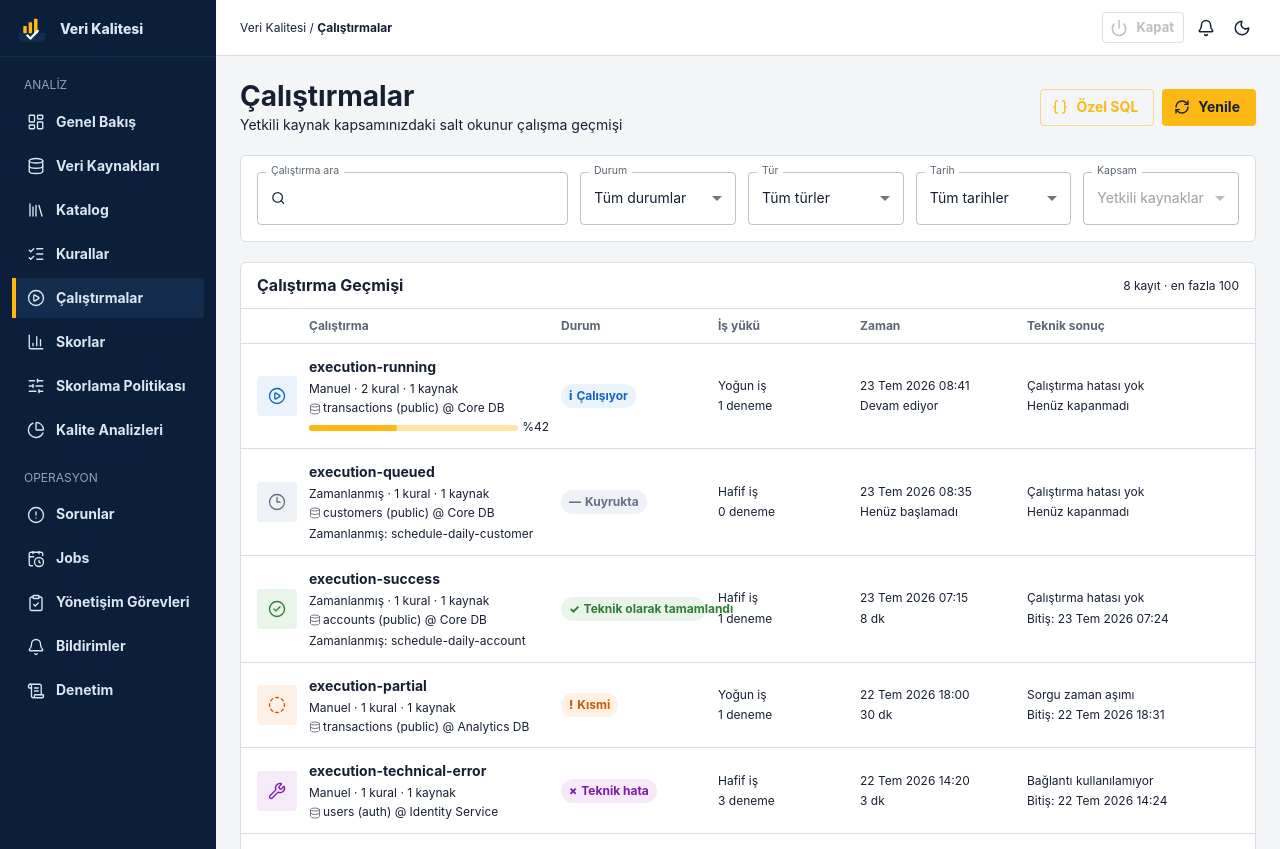
Test: Çalıştırmalar ekranı › Özel SQL dialog'nda yasak keyword içeren SQL hata verir
The width and height of the screenshot is (1280, 849).
Click the button "Özel SQL". click: (1097, 107)
box: [1040, 89, 1154, 126]
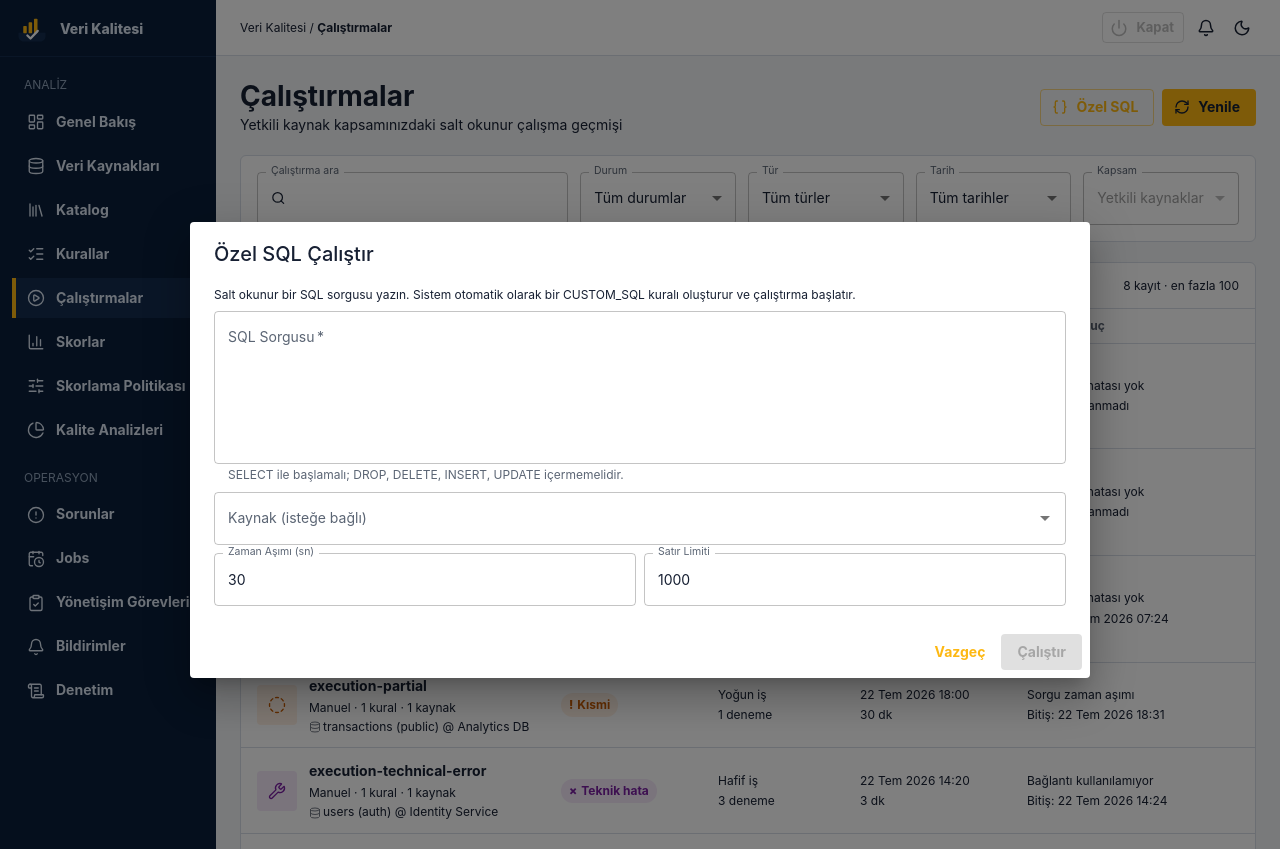
Type "SELECT * FROM t; DROP TABLE x" into the text box with placeholder "SELECT ... -- Salt okunur SQL sorgusunu giriniz". click: (640, 387)
box: [228, 327, 1052, 447]
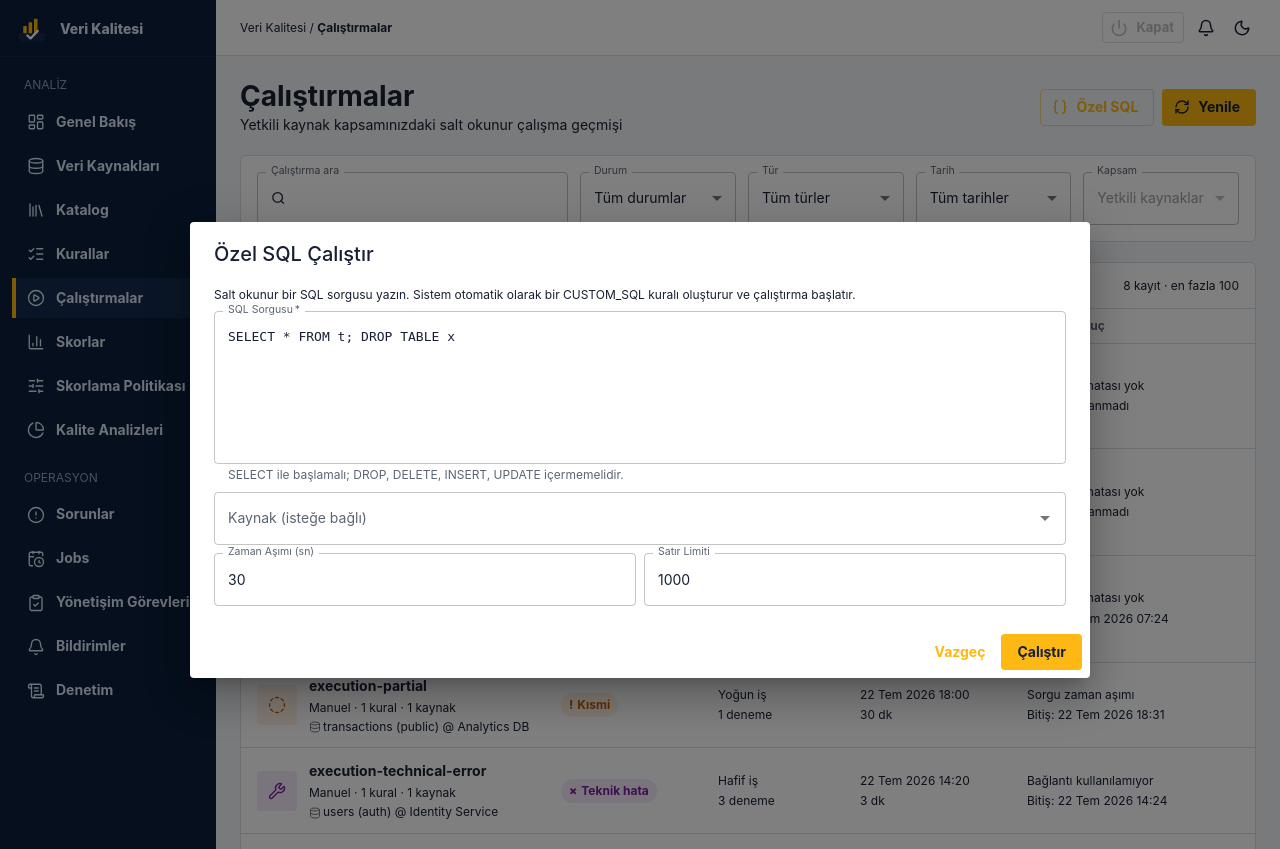
Click the button "Çalıştır". click: (1042, 652)
box: [1002, 634, 1082, 670]
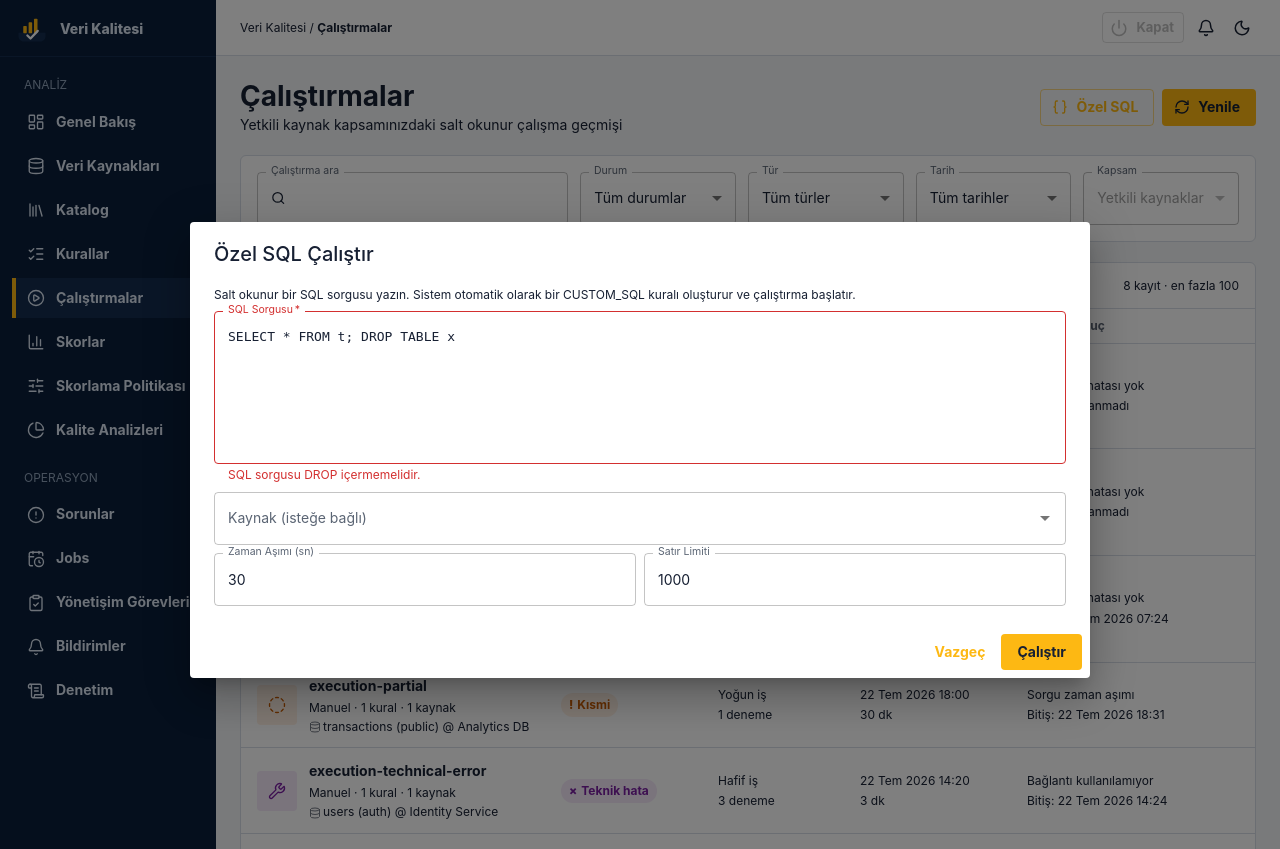
Expected: the text "SQL sorgusu DROP içermemelidir." is shown, [228, 467, 420, 482]
